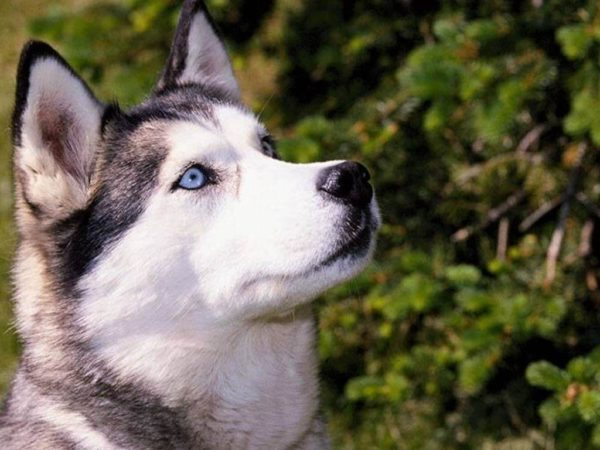husky: (6, 4, 388, 450)
